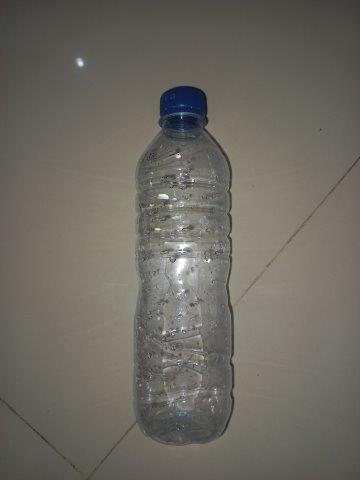botolplastik: (134, 85, 233, 443)
